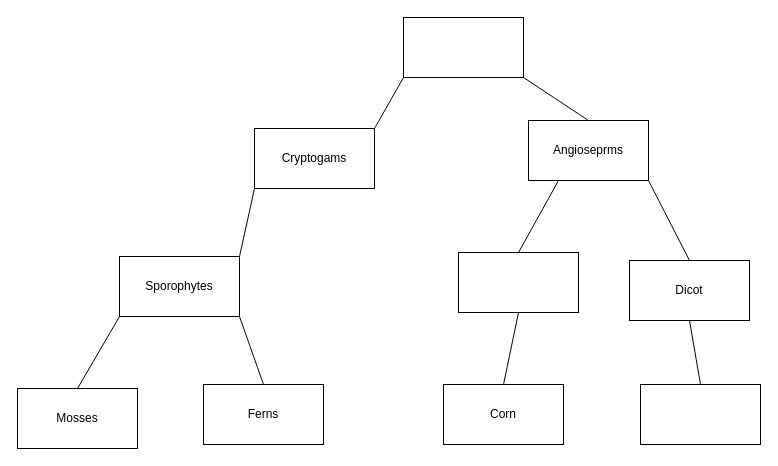
This 778x466 diagram has some shape labels left out. Here are the shapes that lost their labels. From the top down, the box of each, then its label:
(402, 16, 524, 78): Plants
(458, 252, 578, 312): Monocot
(640, 384, 760, 444): Urticales
